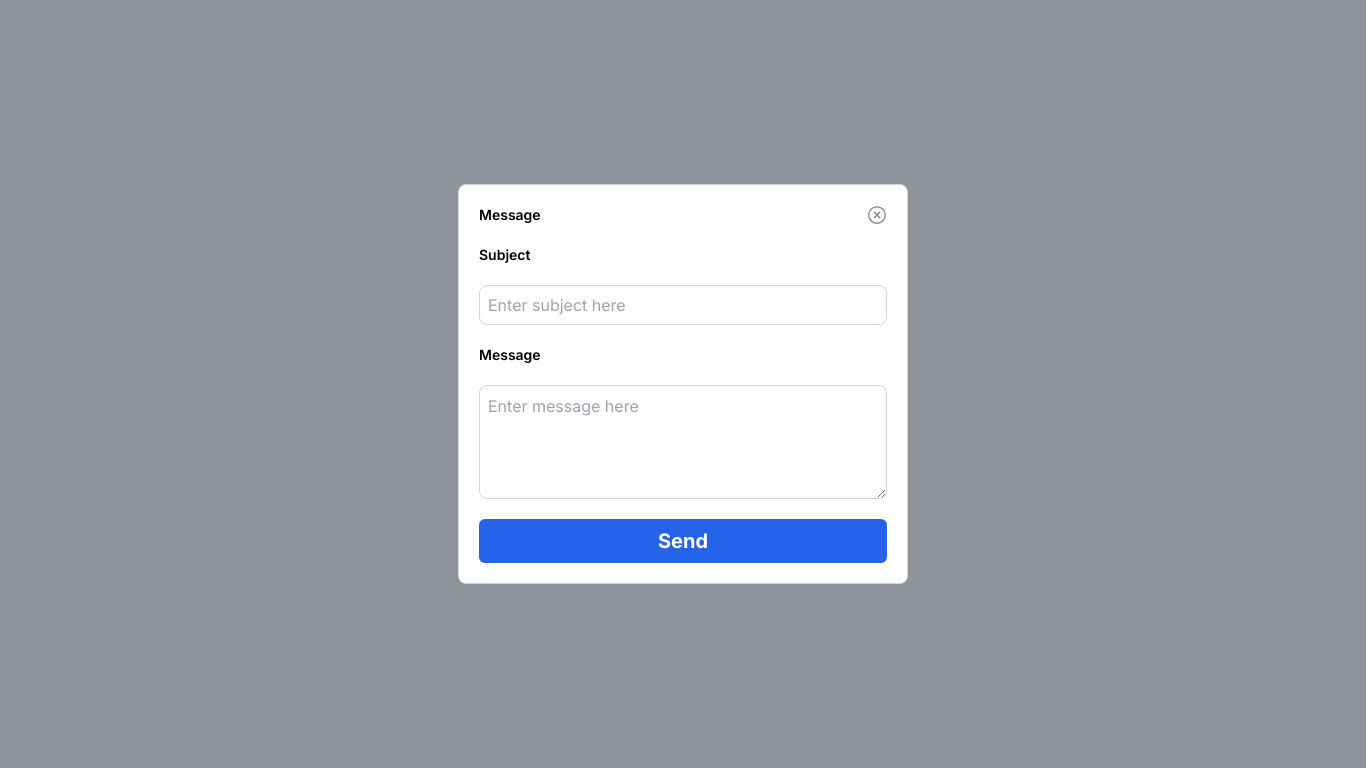
Test: MessageCard › displays success message after sending
Type "Test Subject" into the field with placeholder "Enter subject here".
click(683, 305); type("Test Subject")  # box [479,285,887,325]
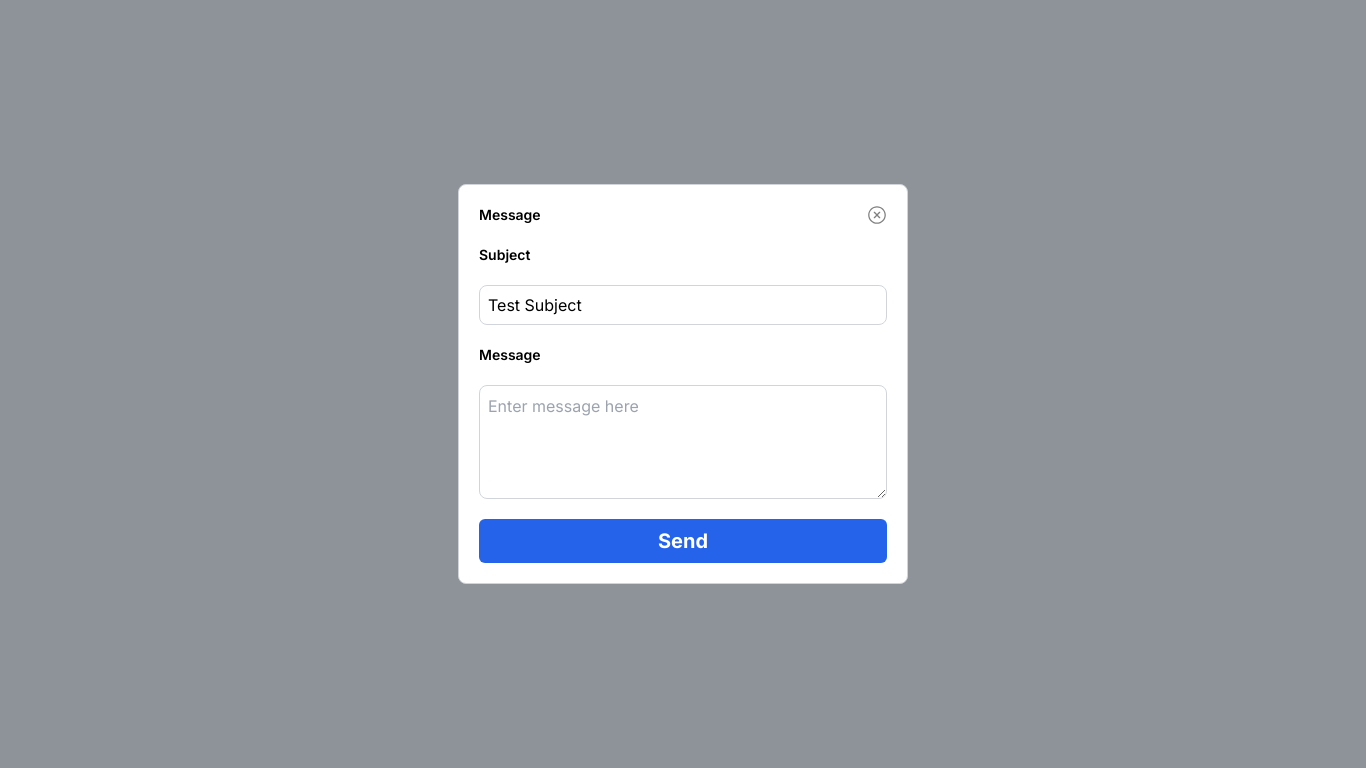
Type "Test Message" into the text box with placeholder "Enter message here".
click(683, 442); type("Test Message")  # box [479,385,887,499]
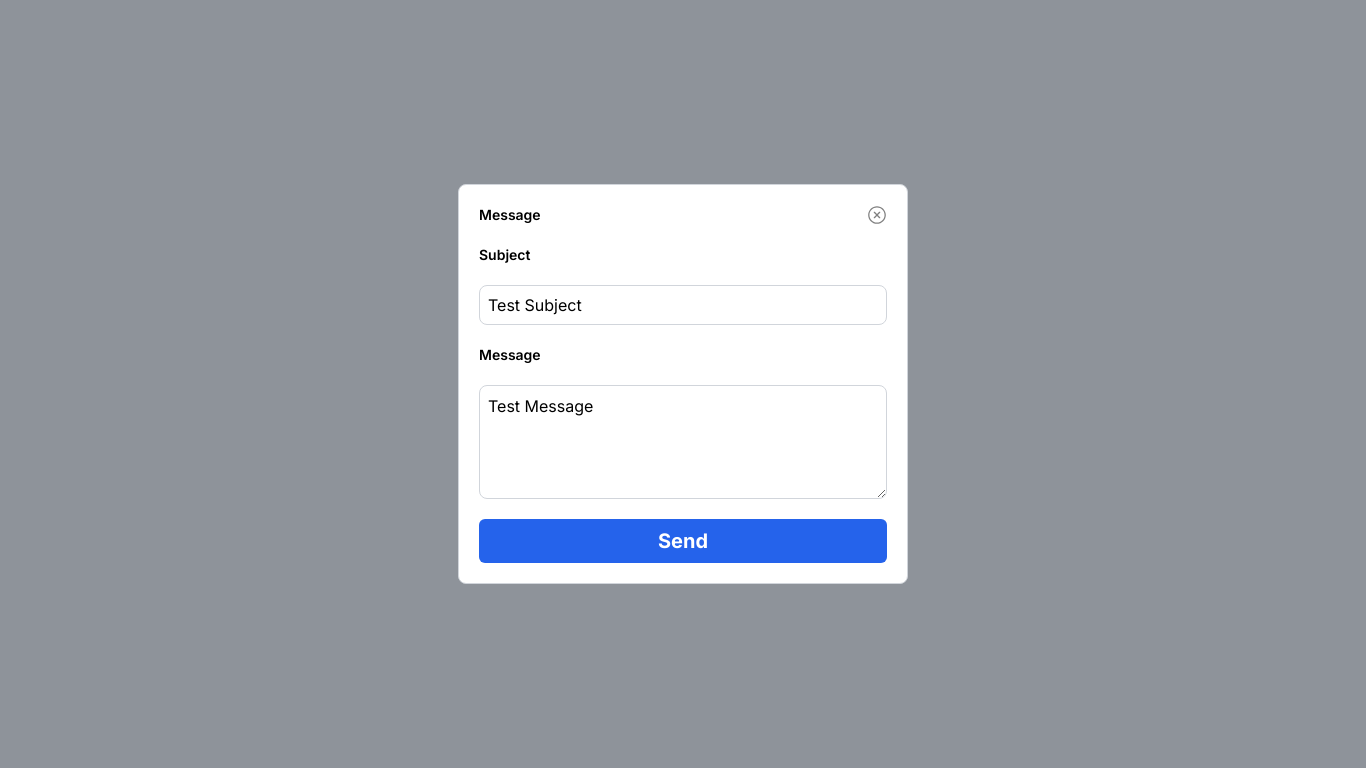
Click the button "Send".
click(683, 541)  # box [479,519,887,563]
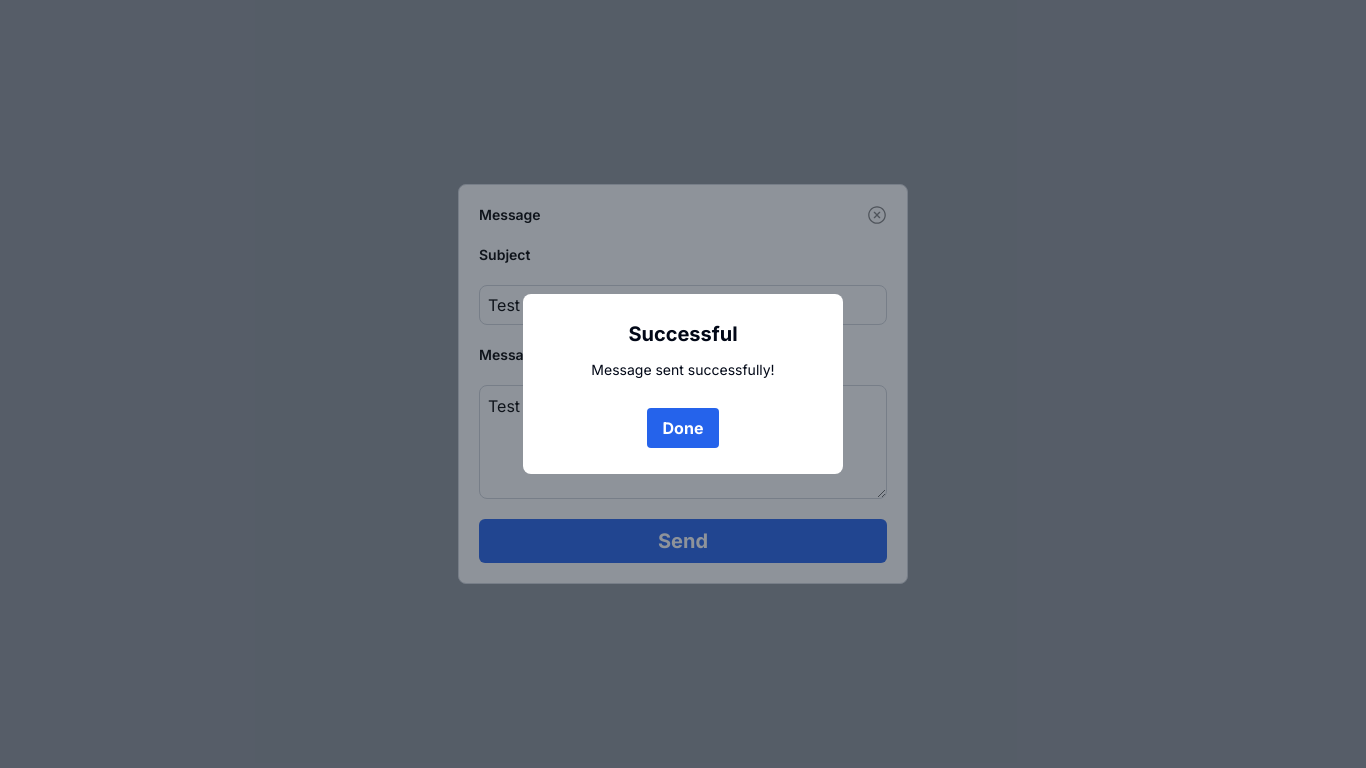
Expected: the heading "Message sent successfully!" is shown, [591,360,775,380]
